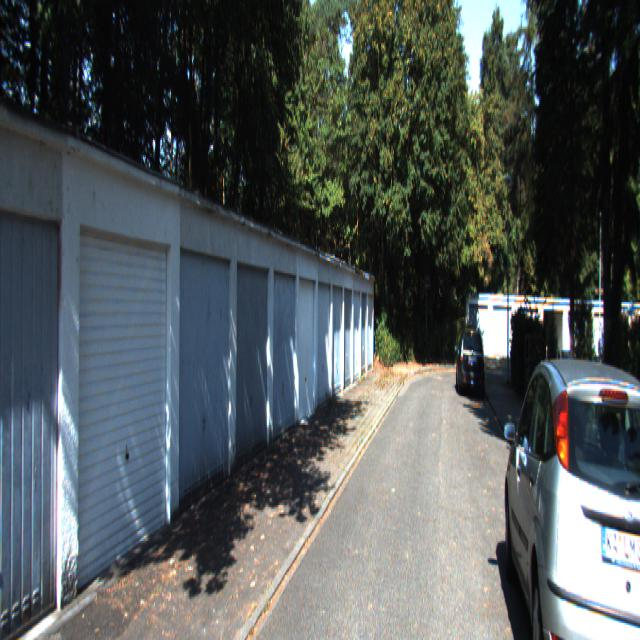Car: (504, 343, 640, 638), (458, 324, 487, 396)
